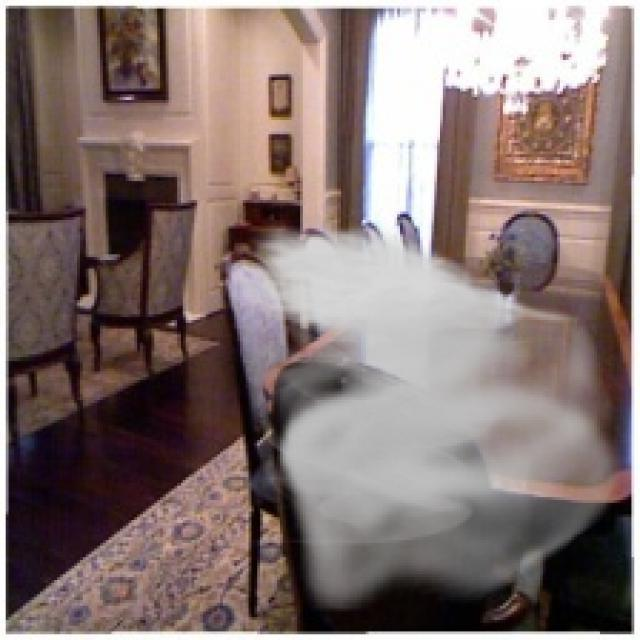Smoke: (232, 219, 632, 612)
